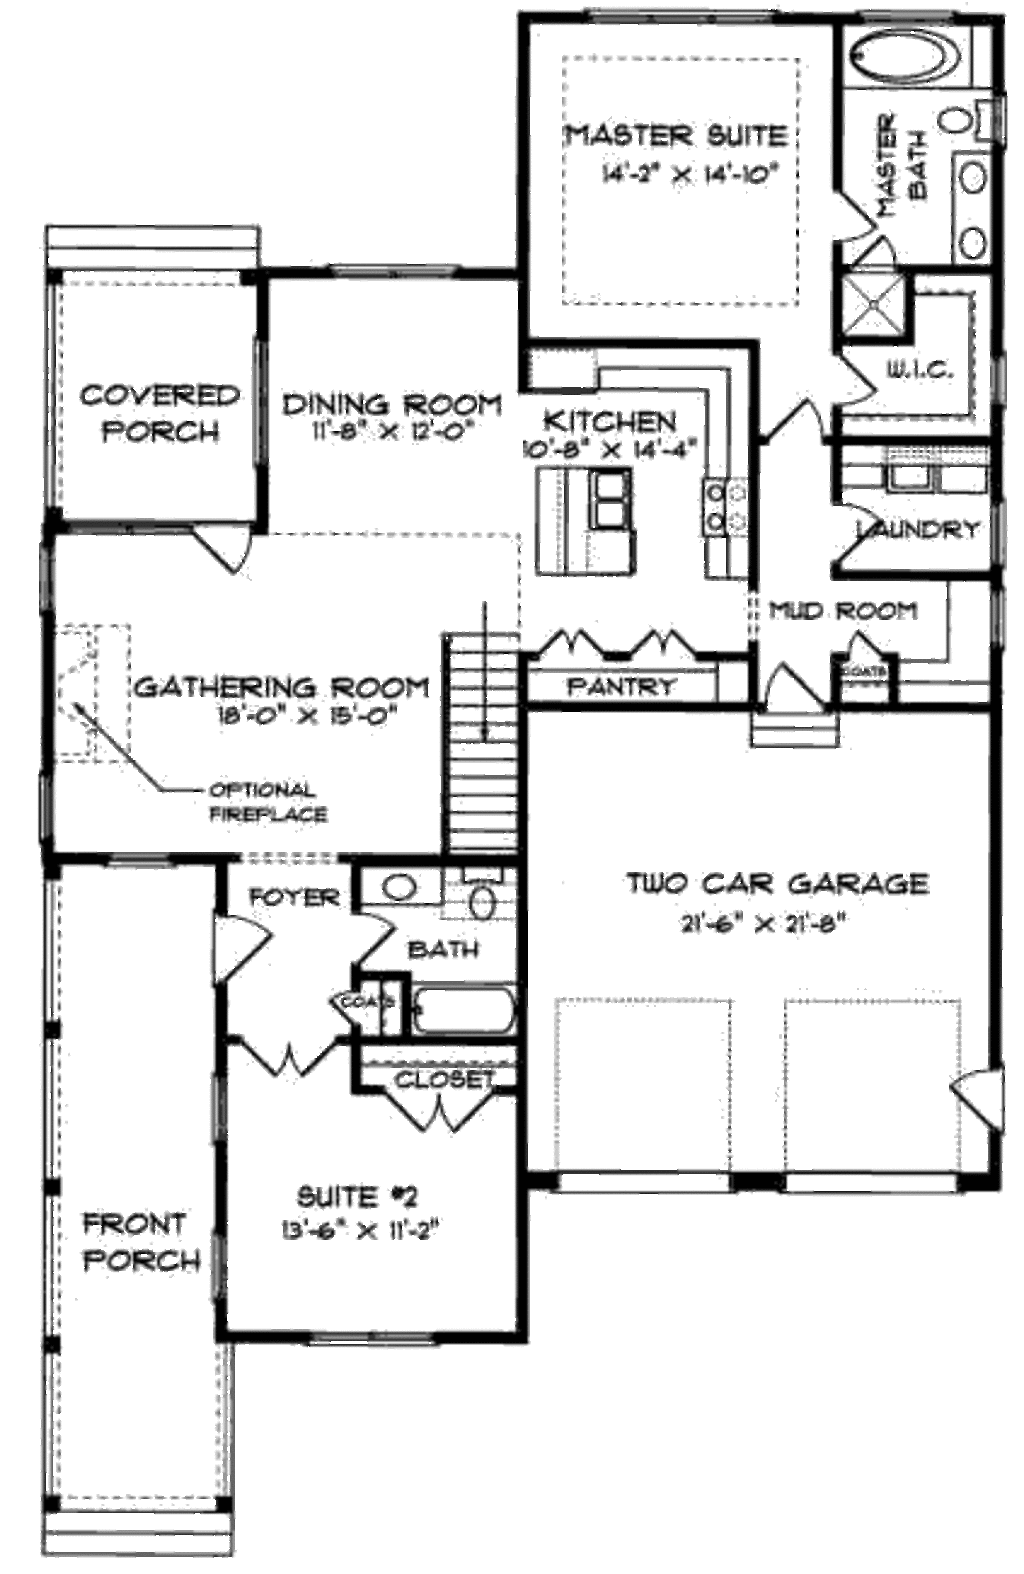door: (227, 1013, 349, 1102), (369, 1081, 508, 1150), (947, 1052, 1021, 1139), (203, 910, 279, 994), (755, 383, 833, 454), (186, 517, 269, 583), (822, 342, 883, 422), (820, 498, 888, 569), (815, 184, 888, 244), (761, 659, 835, 715), (333, 915, 402, 973), (627, 622, 698, 676), (532, 625, 596, 671)
large_sink: (908, 73, 1021, 145), (441, 871, 505, 930)
small_sink: (944, 149, 1005, 264), (354, 862, 432, 913)
stairs: (415, 598, 525, 849)
tub: (842, 20, 993, 91), (398, 983, 519, 1037)
twin_sink: (581, 447, 654, 544)
window: (976, 349, 1018, 676), (295, 1307, 450, 1351), (320, 256, 466, 298), (557, 3, 794, 24), (93, 844, 174, 876)
